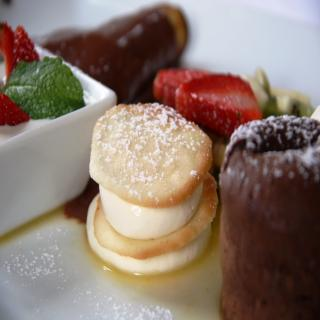Strawberry: (152, 68, 237, 112), (0, 20, 39, 89), (0, 92, 29, 128)
